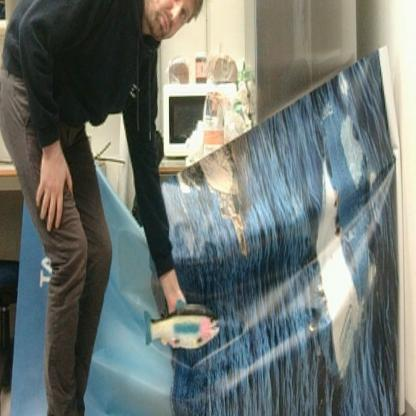rubberfish: (142, 300, 223, 352)
